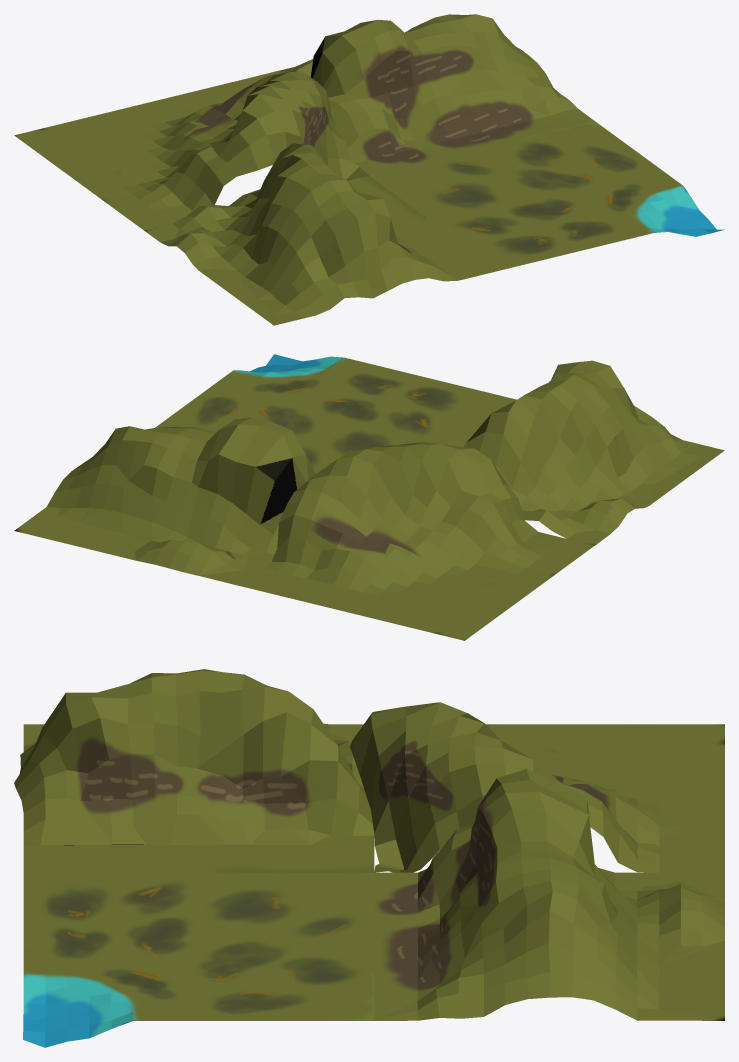
The model's file is terrain.glb.
3 views of the same model, one above another, from view 1: azimuth 30°, elevation 25°; view 2: azimuth 150°, elevation 25°; view 3: azimuth 270°, elevation 25° (orthographic). The views are drawn at different scales.
Parts seen in each view (by area): view 1: Plane.001, Plane, Plane.002, Plane.003; view 2: Plane.003, Plane, Plane.001, Plane.002; view 3: Plane.001, Plane, Plane.002, Plane.003.
Boxes of the visible parts, x1,y1,x2,y2 form: Plane.001: (144,143,498,325); Plane: (239,14,593,175); Plane.002: (369,120,724,270); Plane.003: (14,72,368,230); Plane.003: (240,442,594,640); Plane: (14,417,320,585); Plane.001: (434,360,724,545); Plane.002: (155,354,499,469); Plane.001: (14,669,374,872); Plane: (374,769,724,1020); Plane.002: (23,872,374,1047); Plane.003: (350,702,724,872).
Size of the model in its own units: 40.05 by 9.67 by 40.55.
4 materials, 4 textured.
